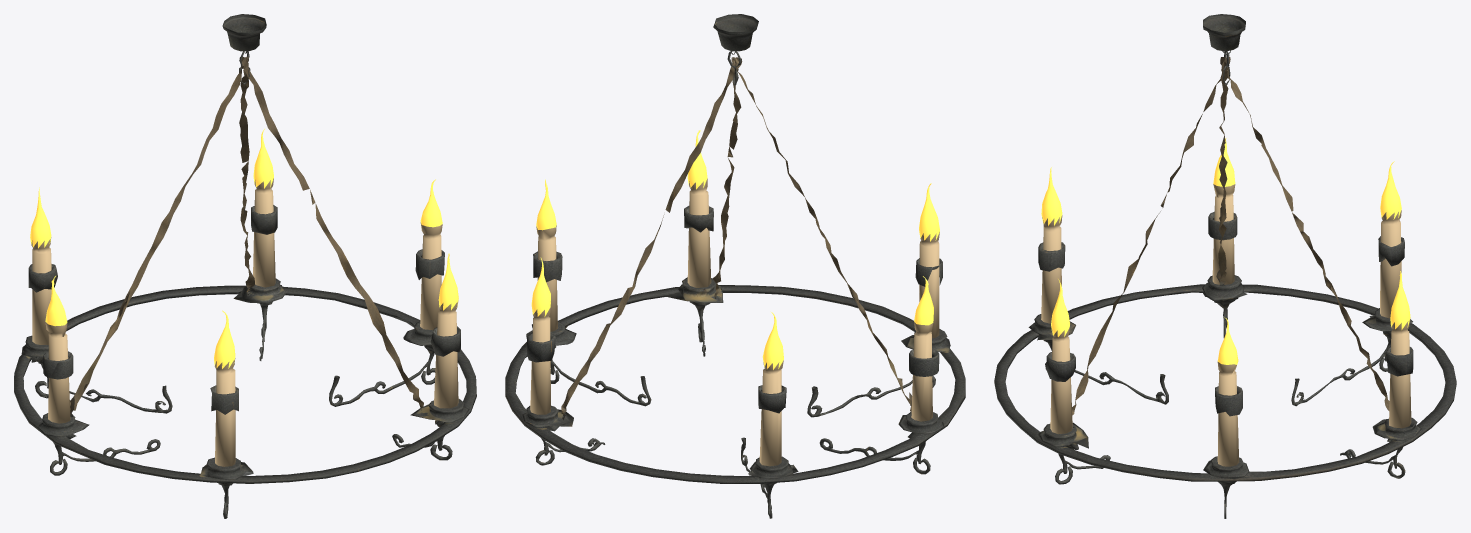
File: SingleTierChandelier.glb
The picture shows the model from 3 angles, left to right: view 1: azimuth 30°, elevation 25°; view 2: azimuth 150°, elevation 25°; view 3: azimuth 270°, elevation 25°; orthographic projection.
Visible parts, largest first — view 1: Single Tier Chandelier; view 2: Single Tier Chandelier; view 3: Single Tier Chandelier.
Part boxes in pixels (x1=…): Single Tier Chandelier: x1=14, y1=14, x2=476, y2=518; Single Tier Chandelier: x1=505, y1=14, x2=965, y2=518; Single Tier Chandelier: x1=994, y1=14, x2=1456, y2=518.
Bounding box in the file's own units: 0.8965 × 0.8491 × 0.8784.
3 materials, 1 textured.
